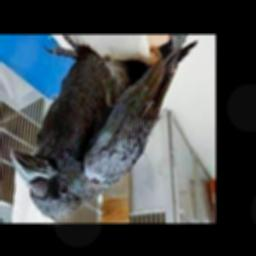Crow: (10, 35, 197, 220)
